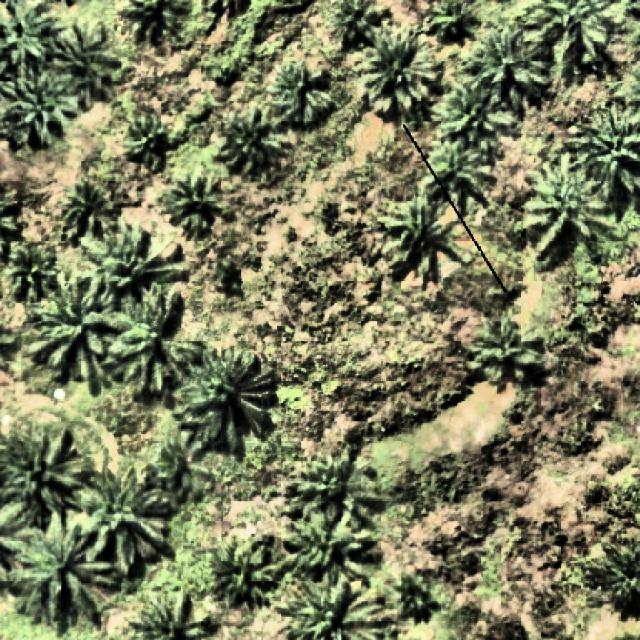Kelapa_Sawit: (280, 437, 396, 591), (168, 347, 286, 461), (9, 513, 120, 629), (29, 268, 129, 396), (70, 458, 176, 574), (104, 279, 207, 398), (77, 220, 186, 312), (522, 155, 616, 260), (354, 24, 444, 118), (382, 195, 476, 283), (468, 28, 554, 116), (430, 77, 516, 157), (4, 61, 81, 150), (50, 18, 121, 114), (422, 134, 495, 214), (468, 310, 542, 388), (210, 534, 282, 610), (270, 56, 336, 130), (218, 108, 282, 176), (170, 170, 228, 235), (5, 238, 58, 302), (64, 175, 108, 242), (126, 117, 172, 174)
